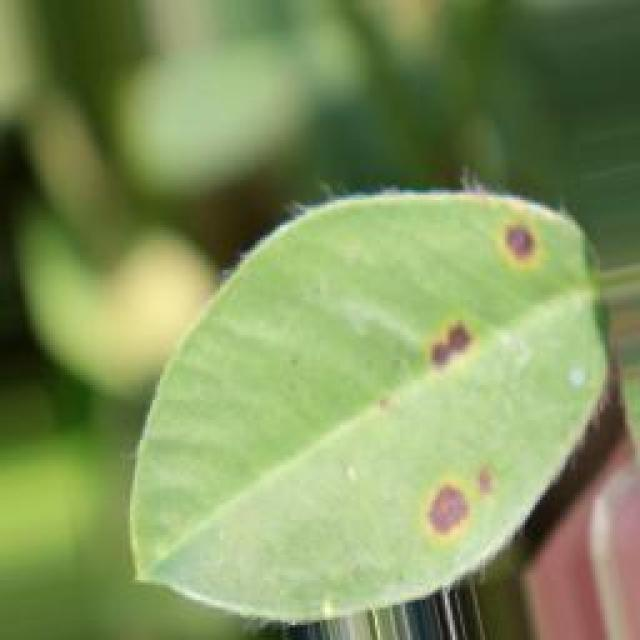Sigatoka: (405, 434, 499, 524), (481, 204, 548, 292), (416, 309, 478, 382), (368, 382, 401, 438)
